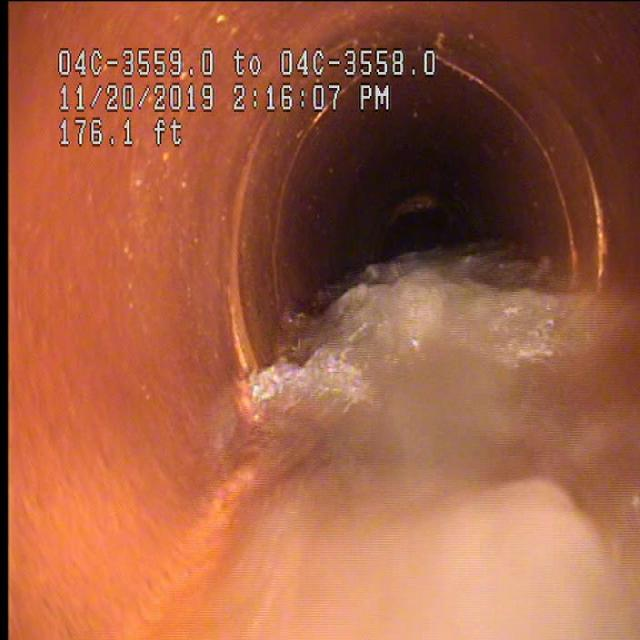Crack: (458, 46, 588, 256)
